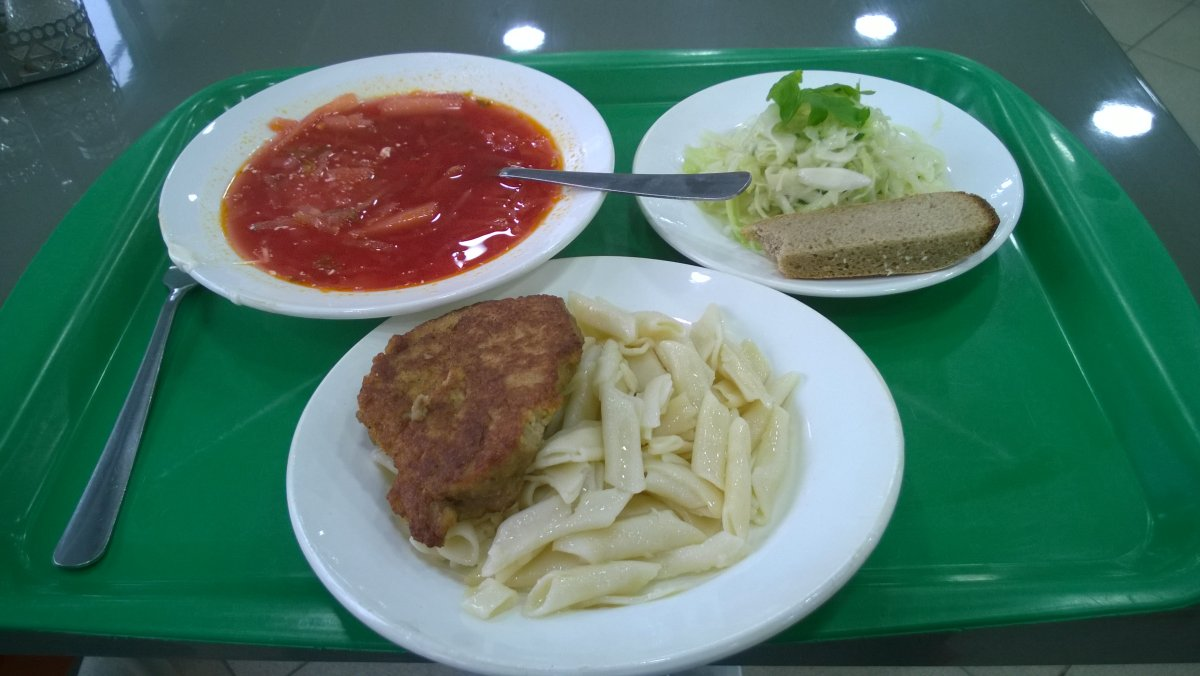bowl: (161, 52, 619, 312)
cutlery: (48, 227, 200, 577), (486, 156, 753, 215)
other: (746, 187, 998, 287)
plate: (287, 257, 910, 676), (633, 70, 1032, 298)
